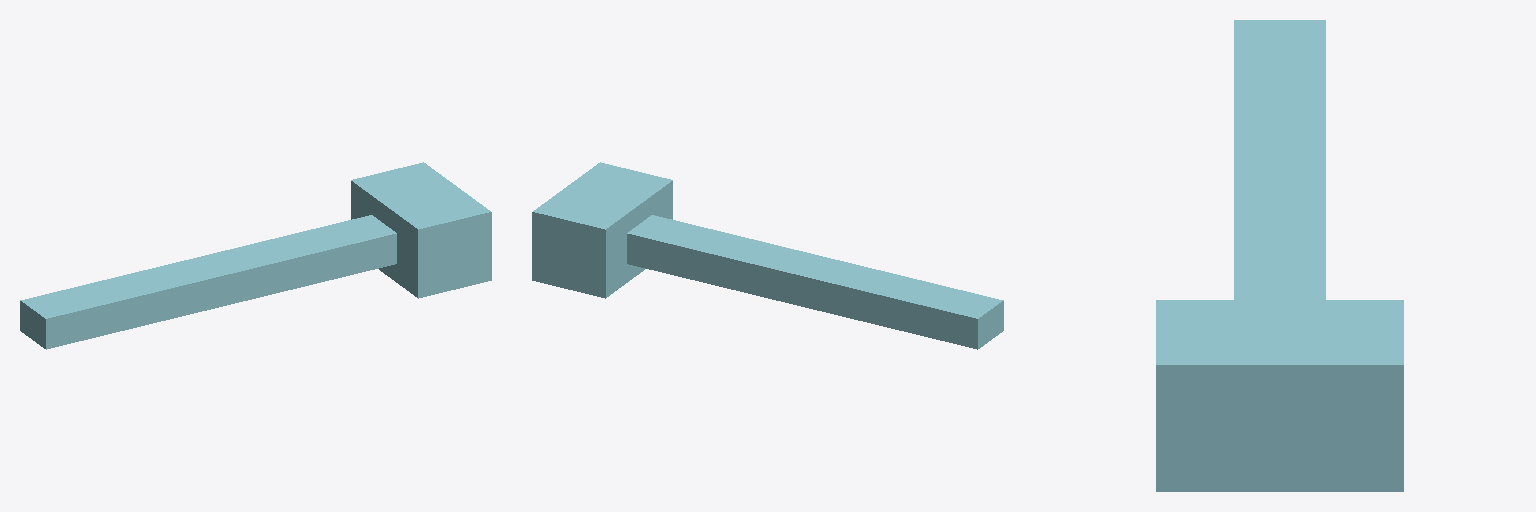
URDF robot description (cuboidal_mallet):
<?xml version="1.0"?>
<robot name="cuboidal_mallet">

  <link name="cuboidal_mallet">
    <!-- Handle -->
    <visual>
      <origin xyz="0 0 0" rpy="0 0 0"/>
      <geometry>
        <box size="0.24 0.03 0.02"/>
      </geometry>
      <material name="material">
        <color rgba="0.639 0.847 0.882 1.0"/>
      </material>
    </visual>
    <collision>
      <origin xyz="0 0 0" rpy="0 0 0"/>
      <geometry>
        <box size="0.24 0.03 0.02"/>
      </geometry>
    </collision>

    <!-- Head -->
    <visual>
      <origin xyz="0.145 0 0" rpy="0 0 0"/>
      <geometry>
        <box size="0.05 0.08 0.045"/>
      </geometry>
      <material name="material">
        <color rgba="0.639 0.847 0.882 1.0"/>
      </material>
    </visual>
    <collision>
      <origin xyz="0.145 0 0" rpy="0 0 0"/>
      <geometry>
        <box size="0.05 0.08 0.045"/>
      </geometry>
    </collision>

    <inertial>
      <density value="400.0"/>
    </inertial>
  </link>

</robot>

--- What the picture shows (computed from the rendered views, not written in the file) ---
The picture shows the robot from 3 angles, left to right: view 1: azimuth 30°, elevation 25°; view 2: azimuth 150°, elevation 25°; view 3: azimuth 270°, elevation 25°; orthographic projection.
Robot: cuboidal_mallet — 1 links, 0 joints (none); root link cuboidal_mallet; default pose: every joint at zero.
Visible links, largest first — view 1: cuboidal_mallet; view 2: cuboidal_mallet; view 3: cuboidal_mallet.
Boxes of the visible links, box(x1,y1,x2,y2) form: cuboidal_mallet: box(20, 162, 491, 349); cuboidal_mallet: box(532, 162, 1003, 349); cuboidal_mallet: box(1156, 20, 1403, 491).
Bounding box of the posed robot: 0.29 × 0.08 × 0.045 m (x, y, z).
Geometry: primitives only (box / cylinder / sphere), no mesh files.
